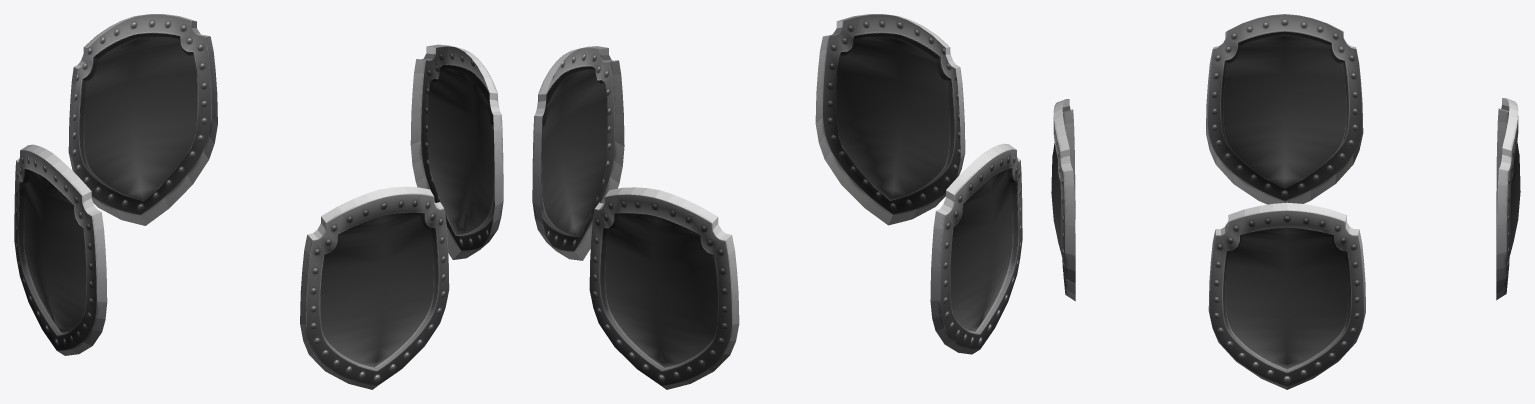
The model's file is eff_defense.FBX.
3 renders of one model, left to right at view 1: azimuth 30°, elevation 25°; view 2: azimuth 150°, elevation 25°; view 3: azimuth 270°, elevation 25°, orthographic. The views are drawn at different scales.
Parts seen in each view (by area): view 1: eff_defense; view 2: eff_defense; view 3: eff_defense.
Part boxes in pixels (x1,y1,x2,y2): eff_defense: [14, 14, 503, 389]; eff_defense: [532, 14, 1022, 389]; eff_defense: [1051, 14, 1520, 389].
Bounding box in the file's own units: 209 × 94.58 × 209.
1 material, 1 textured.
